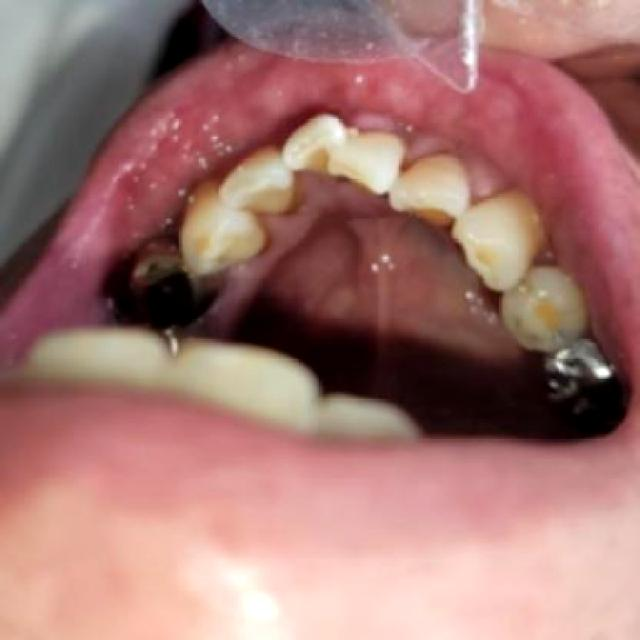Plaque: (540, 324, 572, 356), (508, 274, 538, 301), (504, 313, 531, 340)
